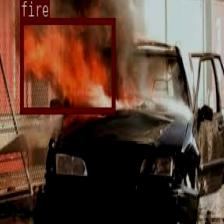fire: (20, 18, 114, 112)
